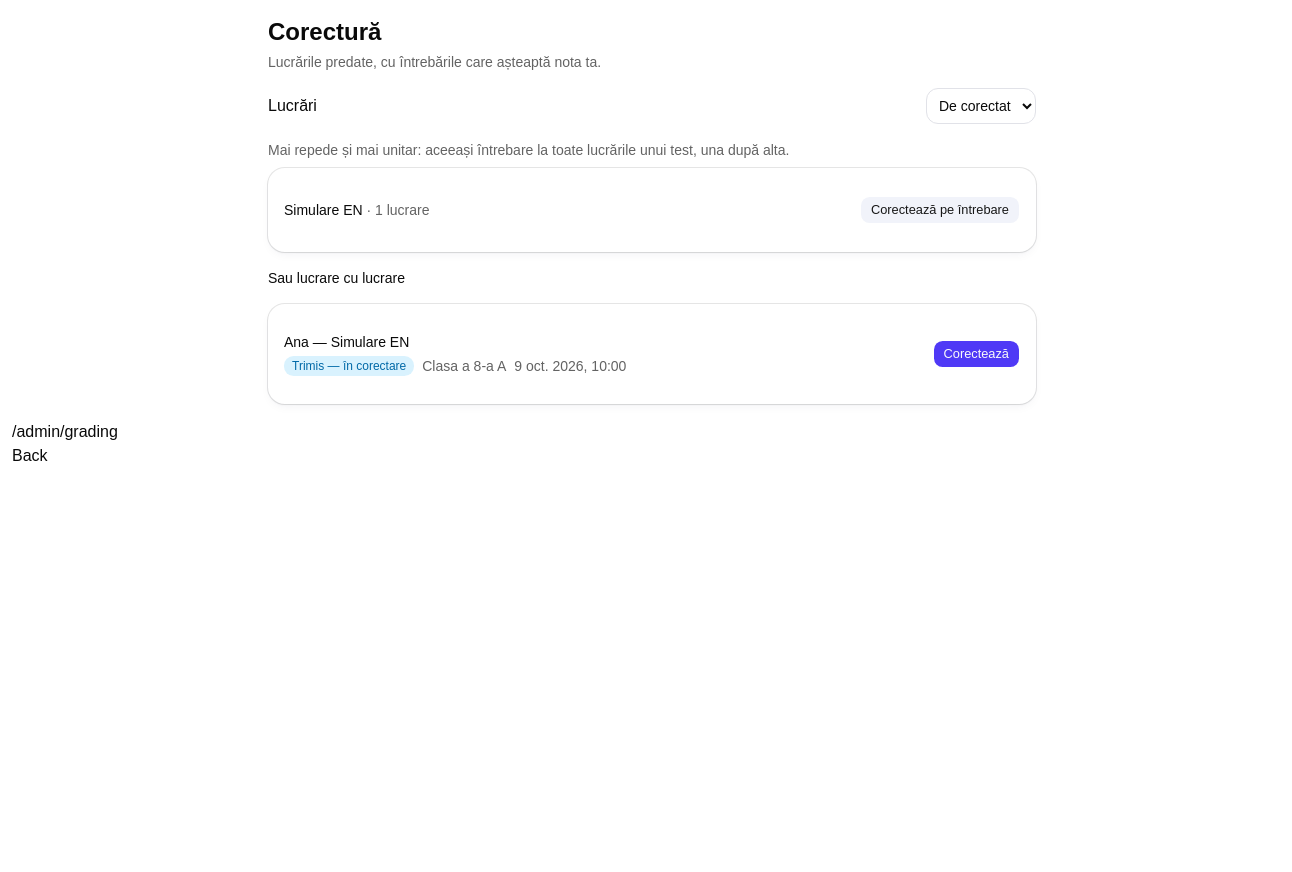
Test: AdminGradingPage › „De ce e greșit” from the paper › shows the explanation the student already reads, and nothing under a right answer
The width and height of the screenshot is (1292, 872).
Click the button with test id "attempt-open". click: (976, 354)
box: [932,340,1020,368]
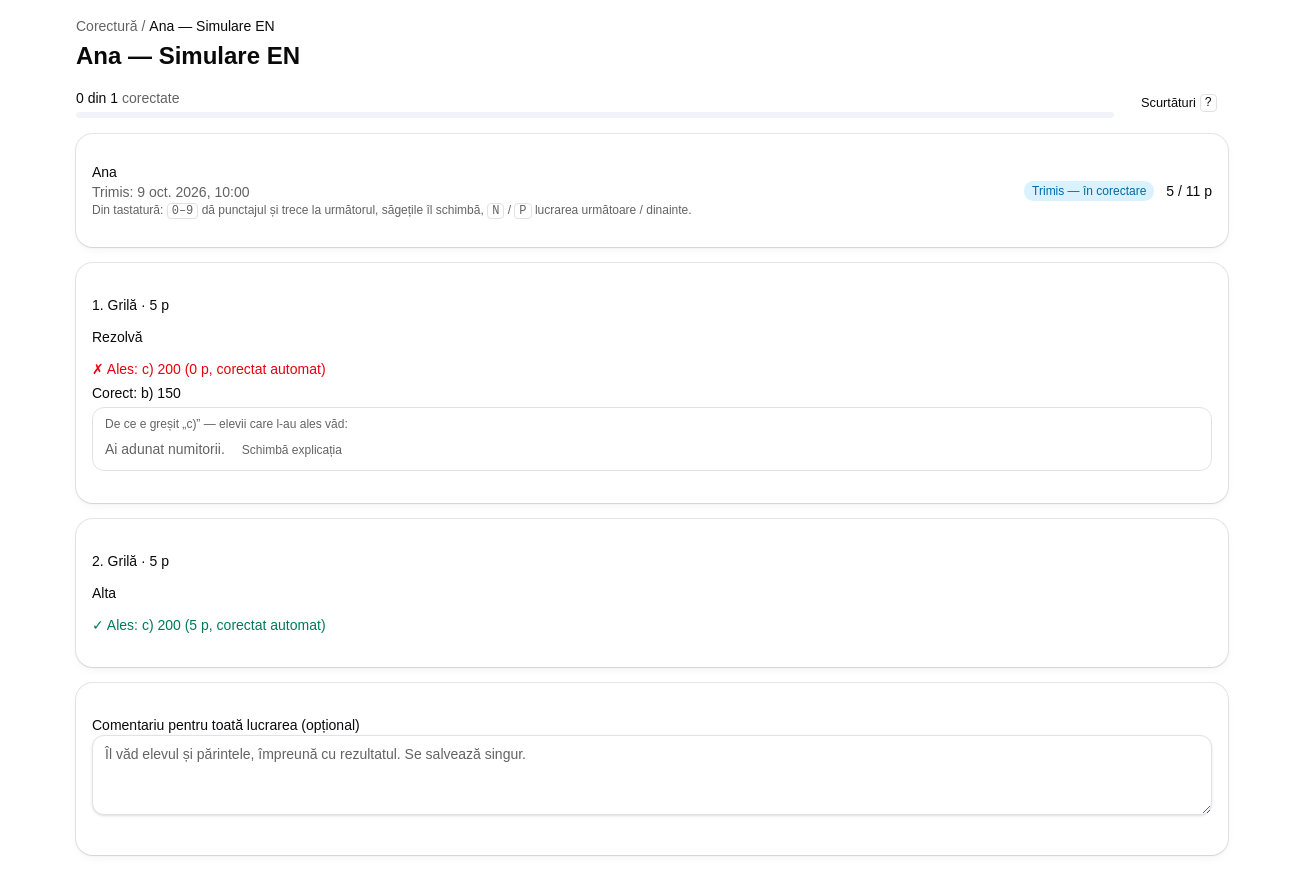
Now the text "Rezolvă" is shown, box [92,329,143,345]
Now the element with test id "grading-mistake-201" shows "Ai adunat numitorii.", box [105,441,225,457]
Now the button "Schimbă explicația" is shown, box [233,438,351,462]
